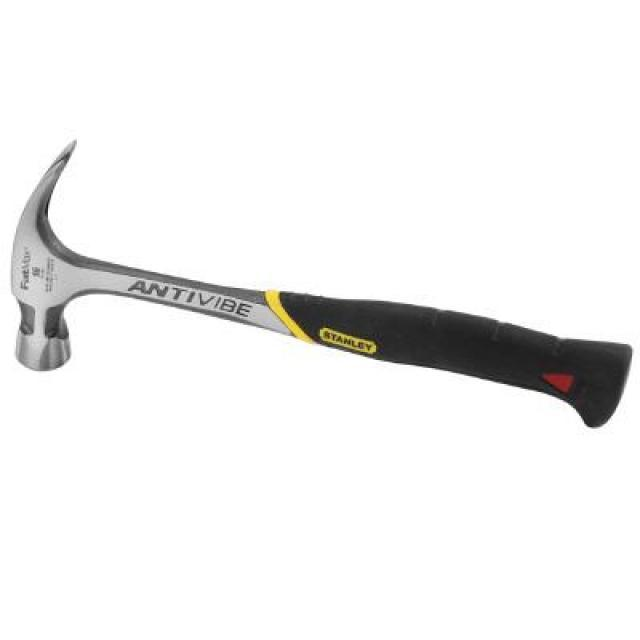hammer: (6, 134, 636, 434)
